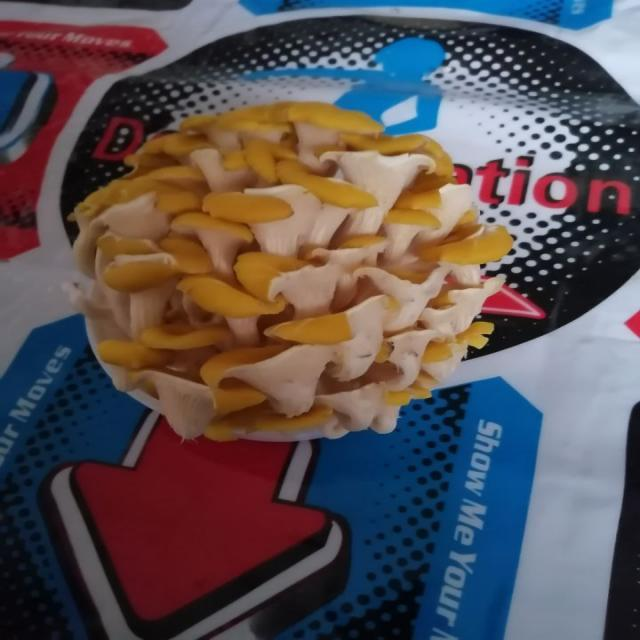Pleurotus citrinopileatus: (65, 100, 516, 439)
